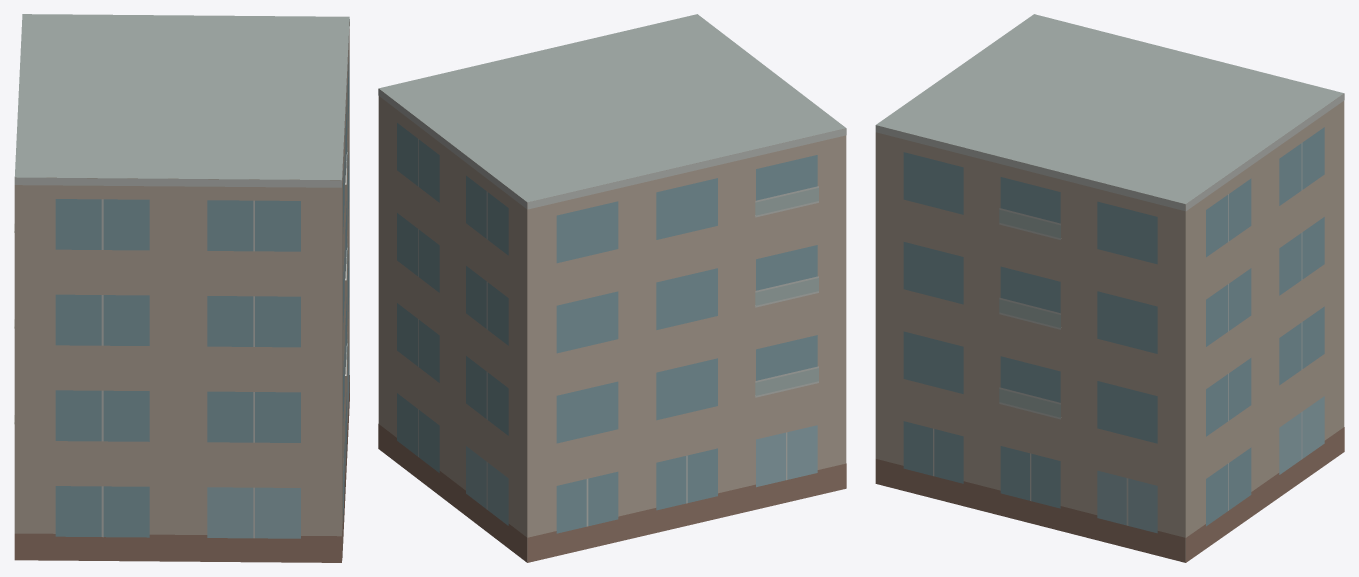
File: residential-1ff4bae3-e7d7-483b-8a03-ce91234d0efb.glb
3 renders of one model, left to right at view 1: azimuth 30°, elevation 25°; view 2: azimuth 150°, elevation 25°; view 3: azimuth 270°, elevation 25°, orthographic. The views are drawn at different scales.
Visible parts, largest first — view 1: residential-1ff4bae3-e7d7-483b-8a03-ce91234d0efb.tmp; view 2: residential-1ff4bae3-e7d7-483b-8a03-ce91234d0efb.tmp; view 3: residential-1ff4bae3-e7d7-483b-8a03-ce91234d0efb.tmp.
Part boxes in pixels (box(x1,y1,x2,y2)): residential-1ff4bae3-e7d7-483b-8a03-ce91234d0efb.tmp: box(14, 14, 349, 562); residential-1ff4bae3-e7d7-483b-8a03-ce91234d0efb.tmp: box(378, 14, 846, 562); residential-1ff4bae3-e7d7-483b-8a03-ce91234d0efb.tmp: box(875, 14, 1344, 562).
Size of the model in its own units: 13.88 by 12.2 by 14.46.
